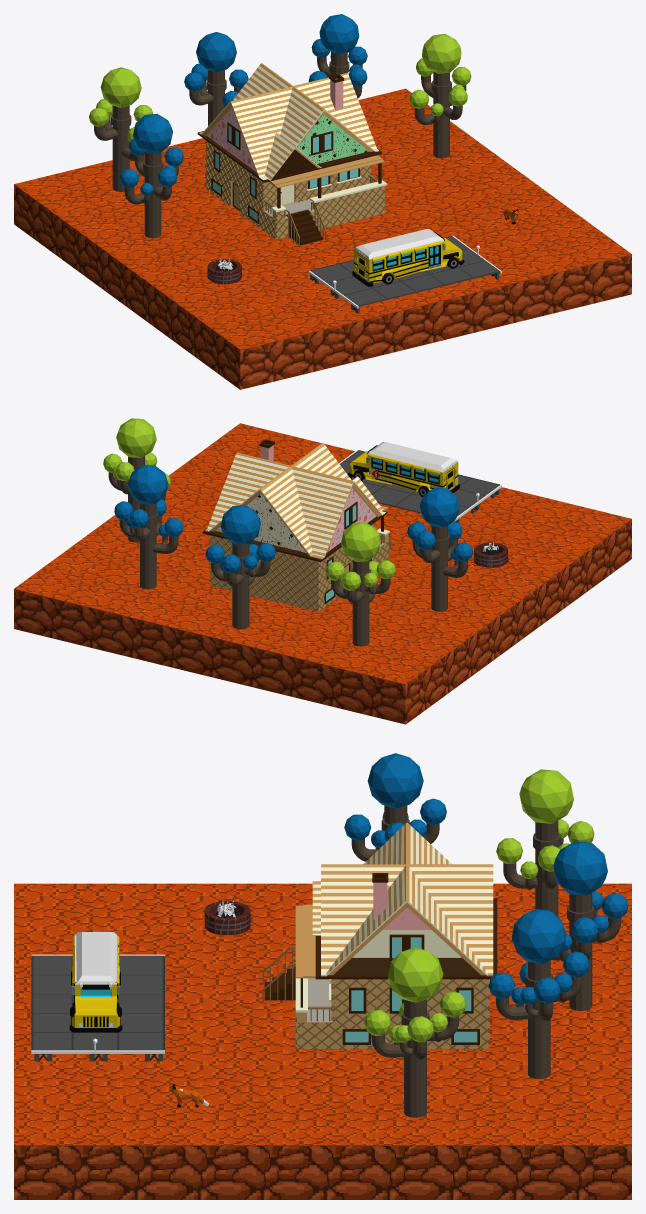
3 renders of one model, top to bottom at view 1: azimuth 30°, elevation 25°; view 2: azimuth 150°, elevation 25°; view 3: azimuth 270°, elevation 25°, orthographic. The views are drawn at different scales.
Parts seen in each view (by area): view 1: Cube.001, Cube.1102, VEHICLES_SCHOOL_BUS, OBJRANDOM_CAMPFIRE; view 2: Cube.001, Cube.1102, VEHICLES_SCHOOL_BUS, OBJRANDOM_CAMPFIRE; view 3: Cube.001, Cube.1102, VEHICLES_SCHOOL_BUS, OBJRANDOM_CAMPFIRE.
Part boxes in pixels (x1,y1,x2,y2): Cube.001: [14, 14, 631, 389]; Cube.1102: [197, 63, 387, 246]; VEHICLES_SCHOOL_BUS: [352, 229, 464, 286]; OBJRANDOM_CAMPFIRE: [207, 257, 241, 284]; Cube.001: [14, 418, 631, 724]; Cube.1102: [202, 439, 390, 611]; VEHICLES_SCHOOL_BUS: [348, 442, 459, 496]; OBJRANDOM_CAMPFIRE: [473, 541, 508, 567]; Cube.001: [14, 753, 631, 1199]; Cube.1102: [262, 823, 497, 1049]; VEHICLES_SCHOOL_BUS: [69, 932, 122, 1032]; OBJRANDOM_CAMPFIRE: [204, 896, 250, 934].
Size of the model in its own units: 4000 by 1765 by 4000.
34 materials, 5 textured.
